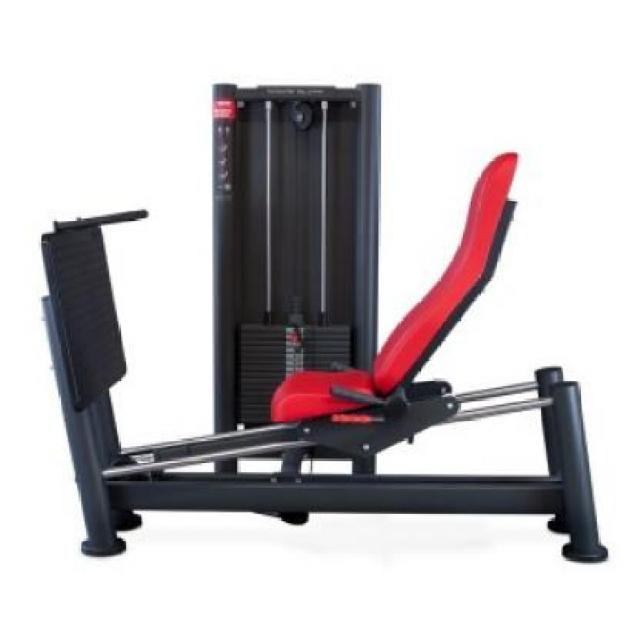leg press: (23, 52, 615, 592)
